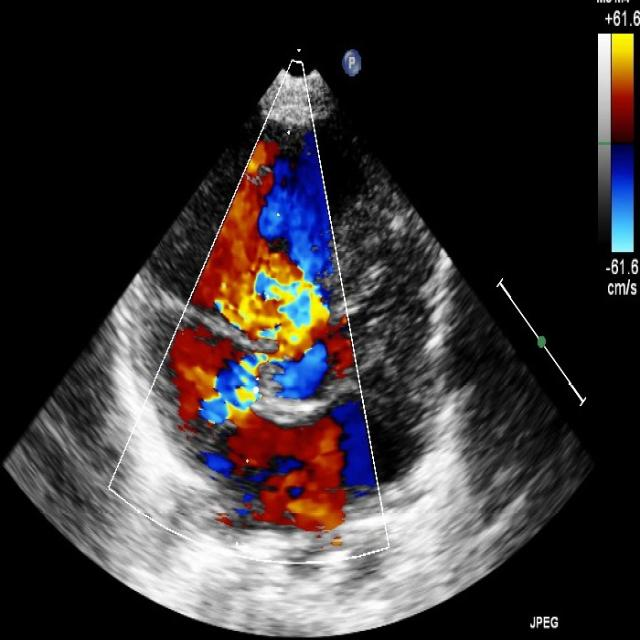VSDType2: (216, 267, 354, 403)
